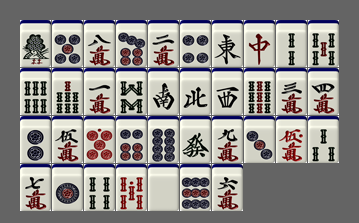0m: (276, 116, 307, 163)
0p: (84, 116, 115, 163)
0s: (116, 164, 147, 211)
1m: (84, 68, 115, 115)
1p: (52, 164, 83, 211)
1s: (20, 20, 51, 67)
1z: (212, 20, 243, 67)
2m: (148, 20, 179, 67)
2p: (20, 116, 51, 163)
2s: (276, 20, 307, 67)
2z: (148, 68, 179, 115)
3m: (276, 68, 307, 115)
3p: (244, 116, 275, 163)
3s: (308, 116, 339, 163)
3z: (212, 68, 243, 115)
4m: (308, 68, 339, 115)
4p: (180, 20, 211, 67)
4s: (84, 164, 115, 211)
4z: (180, 68, 211, 115)
5m: (52, 116, 83, 163)
5p: (52, 20, 83, 67)
5s: (308, 20, 339, 67)
5z: (148, 164, 179, 211)
6m: (212, 164, 243, 211)
6p: (116, 116, 147, 163)
6s: (20, 68, 51, 115)
6z: (180, 116, 211, 163)
7m: (20, 164, 51, 211)
7p: (116, 20, 147, 67)
7s: (52, 68, 83, 115)
7z: (244, 20, 275, 67)
8m: (84, 20, 115, 67)
8p: (148, 116, 179, 163)
8s: (116, 68, 147, 115)
9m: (212, 116, 243, 163)
9p: (180, 164, 211, 211)
9s: (244, 68, 275, 115)
